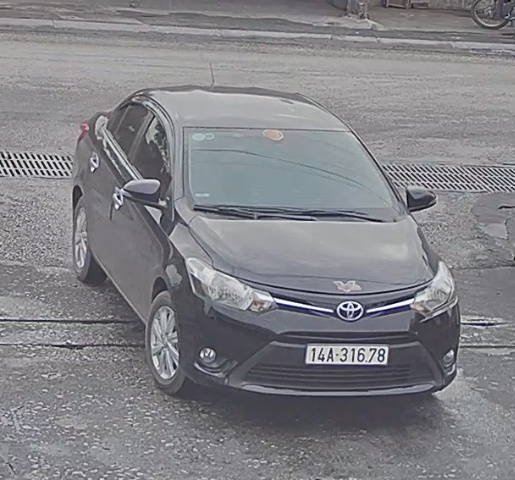vehicle plate: (303, 340, 390, 370)
